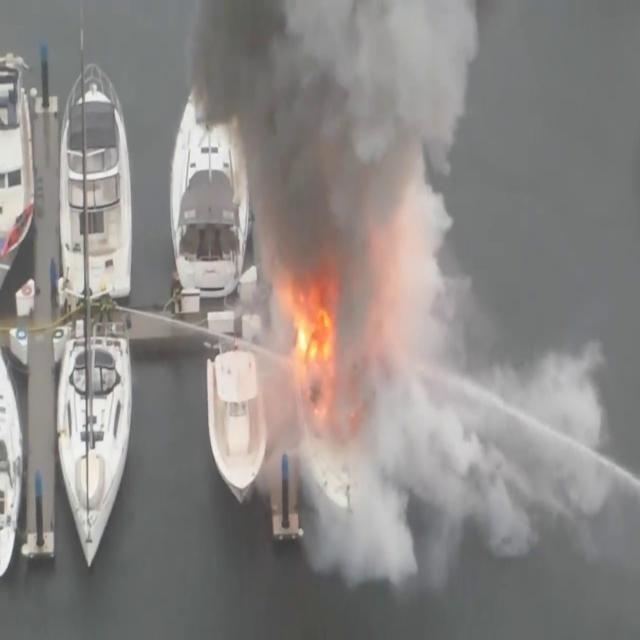Fire: (281, 272, 336, 379)
Smoke: (224, 323, 623, 601), (186, 0, 489, 264)
